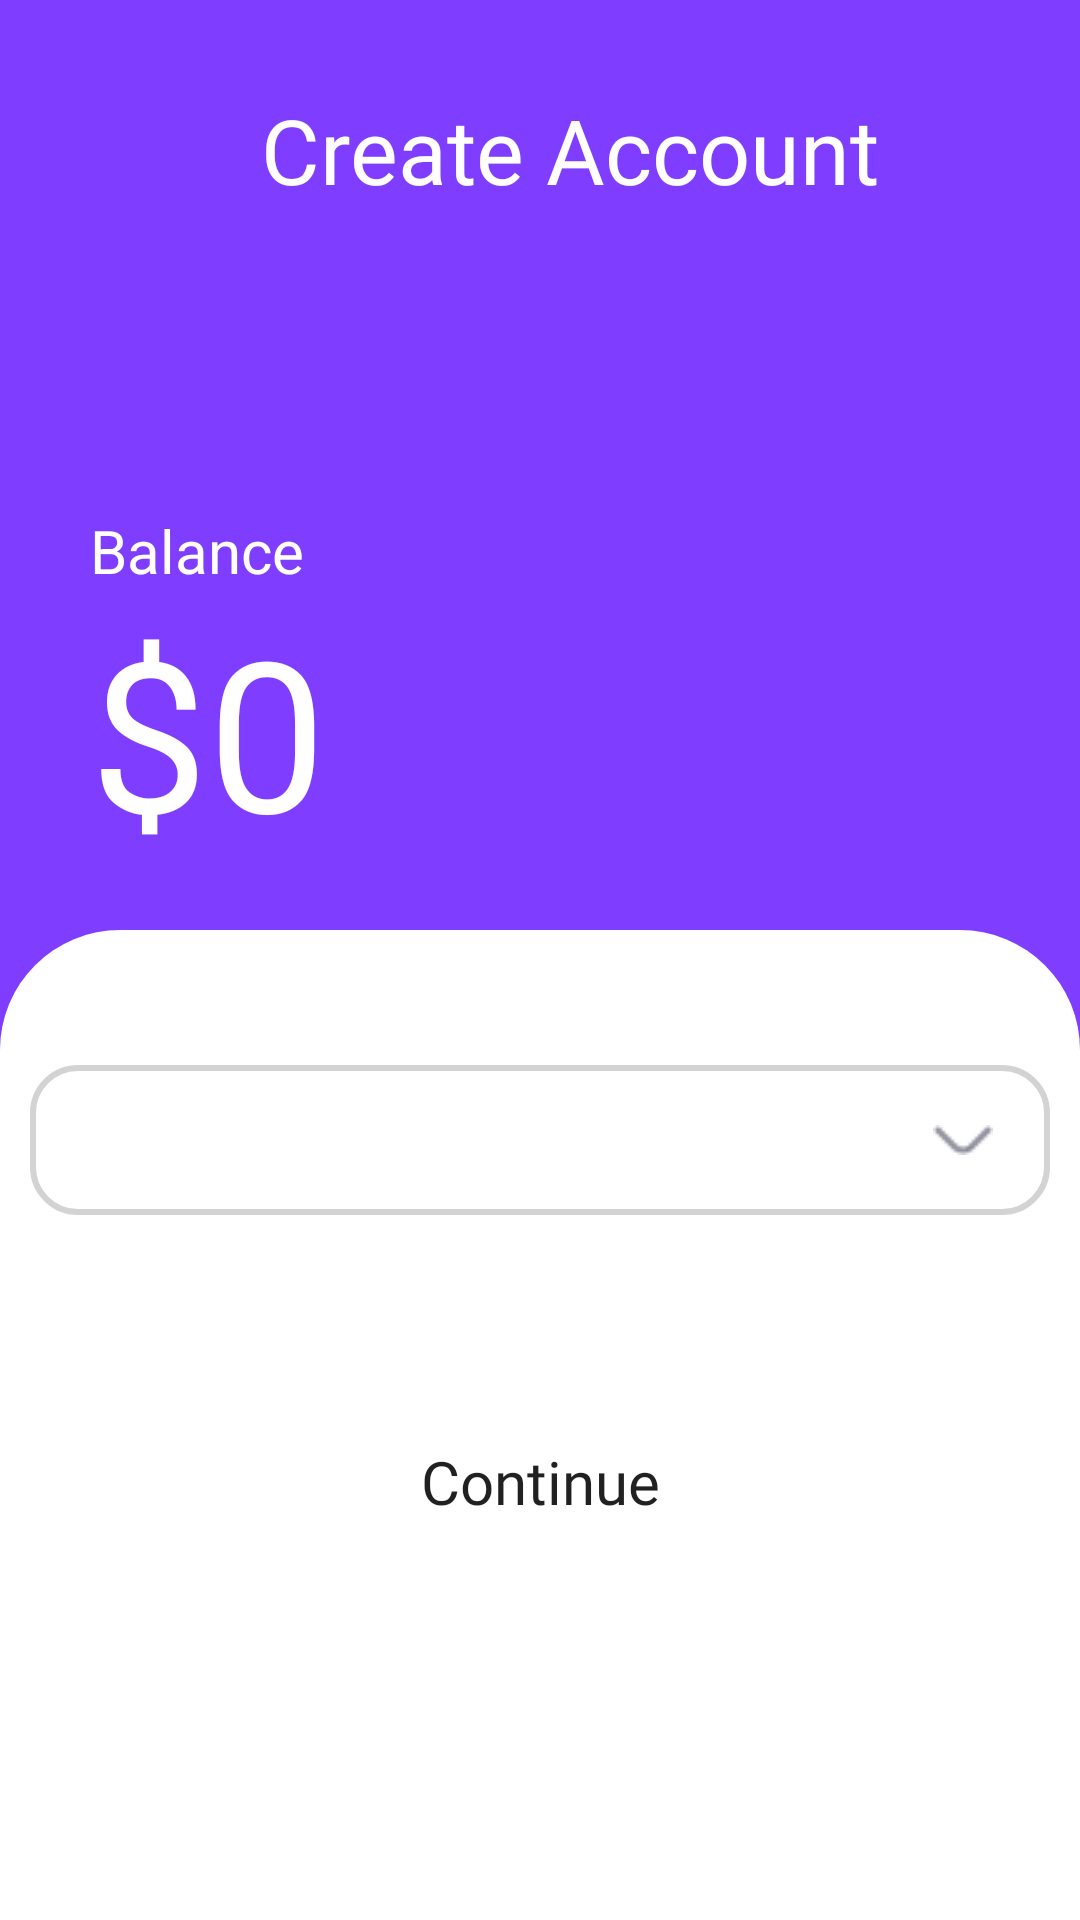

Where icons sit on this 1080px x 1920px app screen, as Rect(x1, y1, x2, y2):
arrow down: Rect(933, 1125, 993, 1155)
